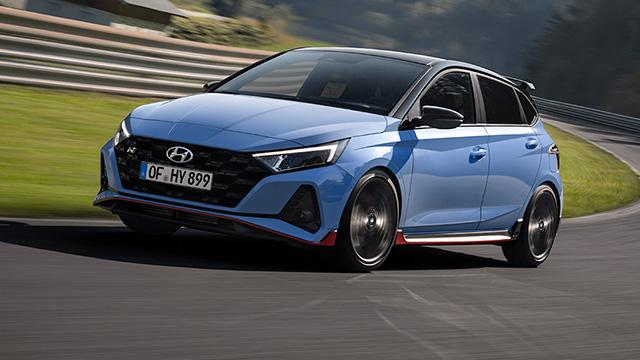hyundai: (92, 46, 564, 270)
